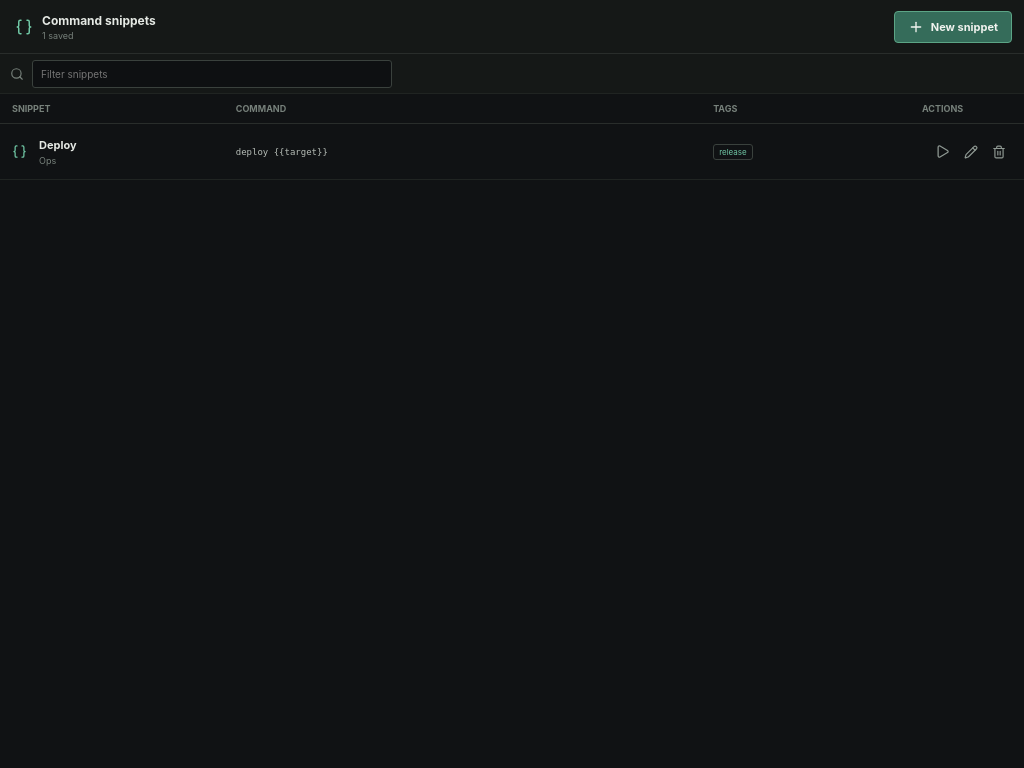
Test case: SnippetWorkspace › requires confirmation for multiple terminal targets
The width and height of the screenshot is (1024, 768).
Step 1. Click the button named "Run Deploy" → {"x": 943, "y": 152}, box [930, 138, 956, 164]
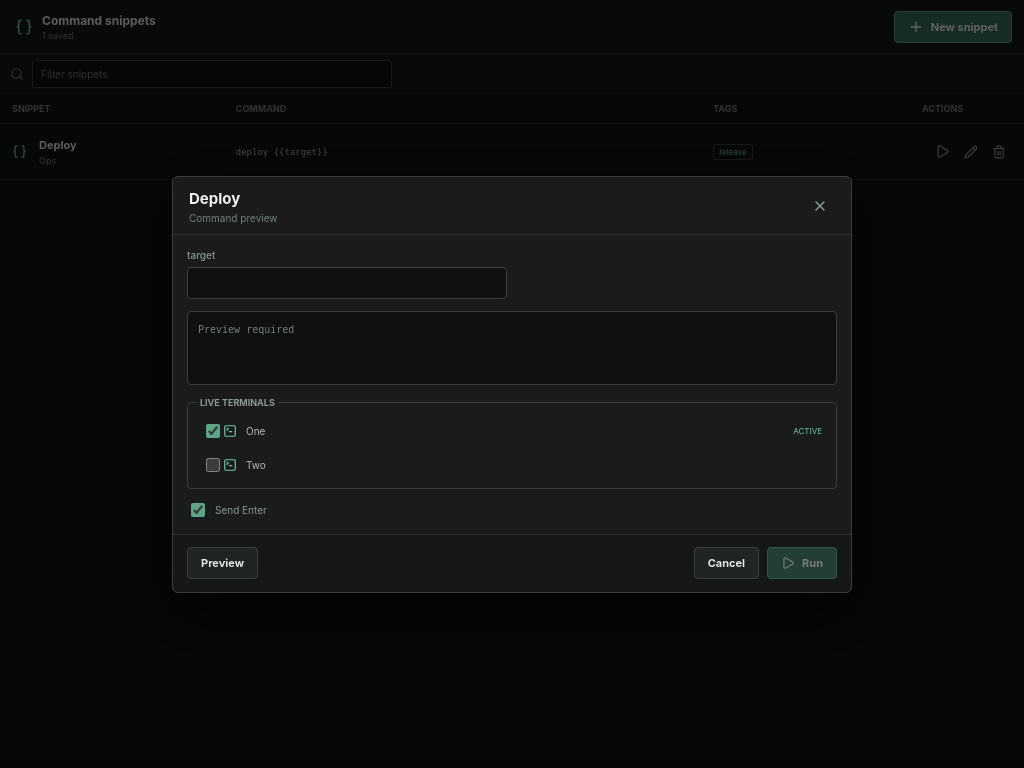
Step 2. Click the text "Two" → {"x": 256, "y": 464}, box [246, 458, 266, 470]
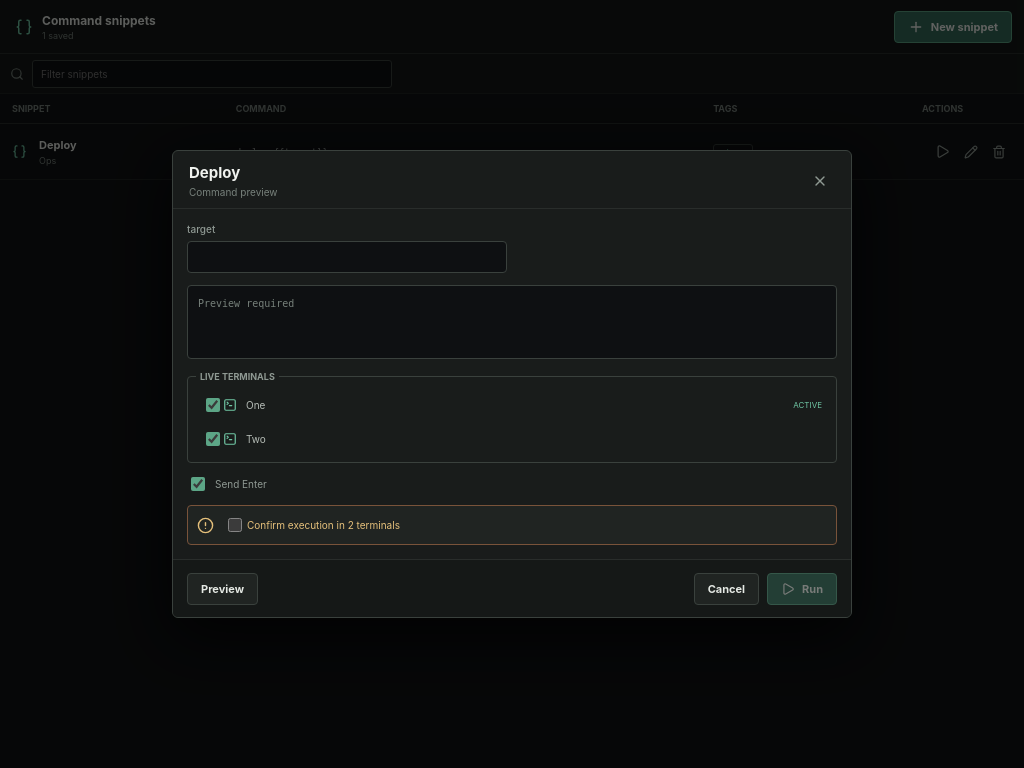
Step 3. Click the button "Preview" → {"x": 222, "y": 588}, box [187, 572, 258, 604]
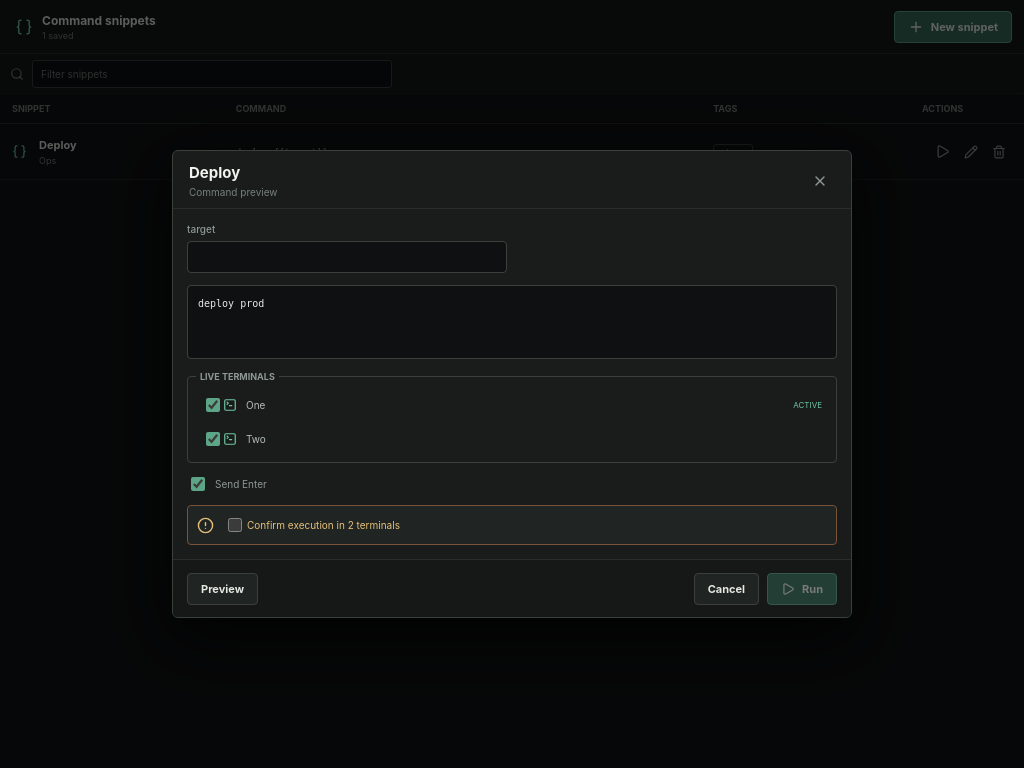
Check: the button "Run" is disabled, box [767, 572, 837, 604]
Check: the text "deploy prod" is shown, box [187, 285, 837, 359]
Step 4. Click the text "Confirm execution in 2 terminals" → {"x": 324, "y": 525}, box [247, 519, 400, 531]
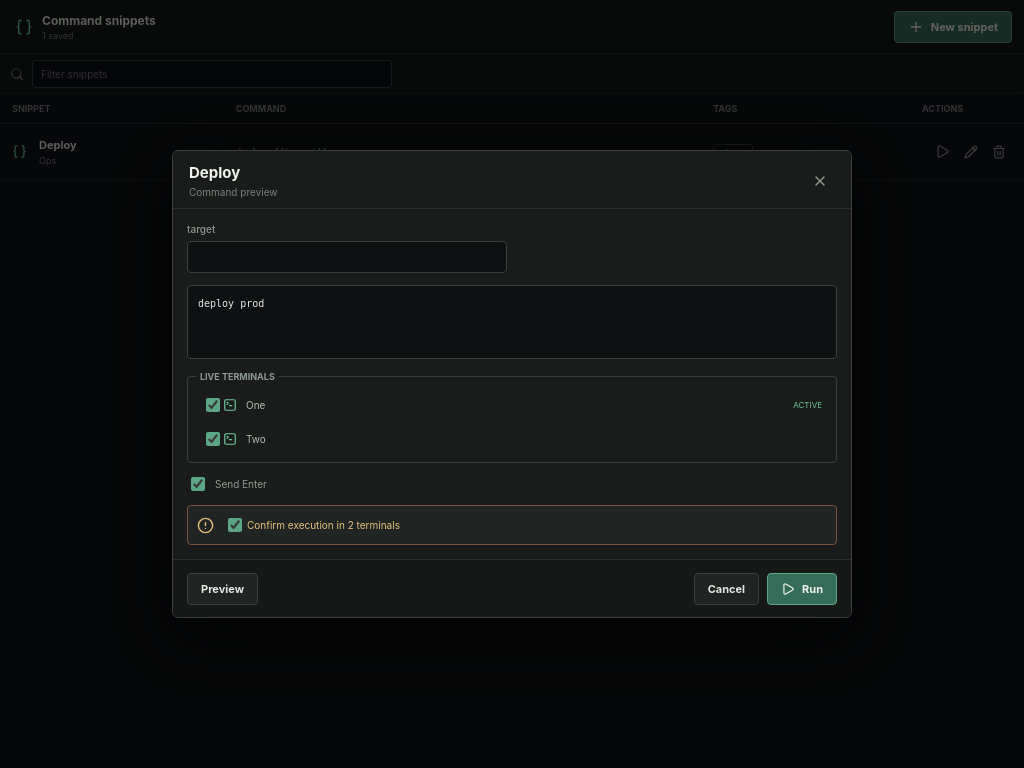
Check: the button "Run" is enabled, box [767, 572, 837, 604]
